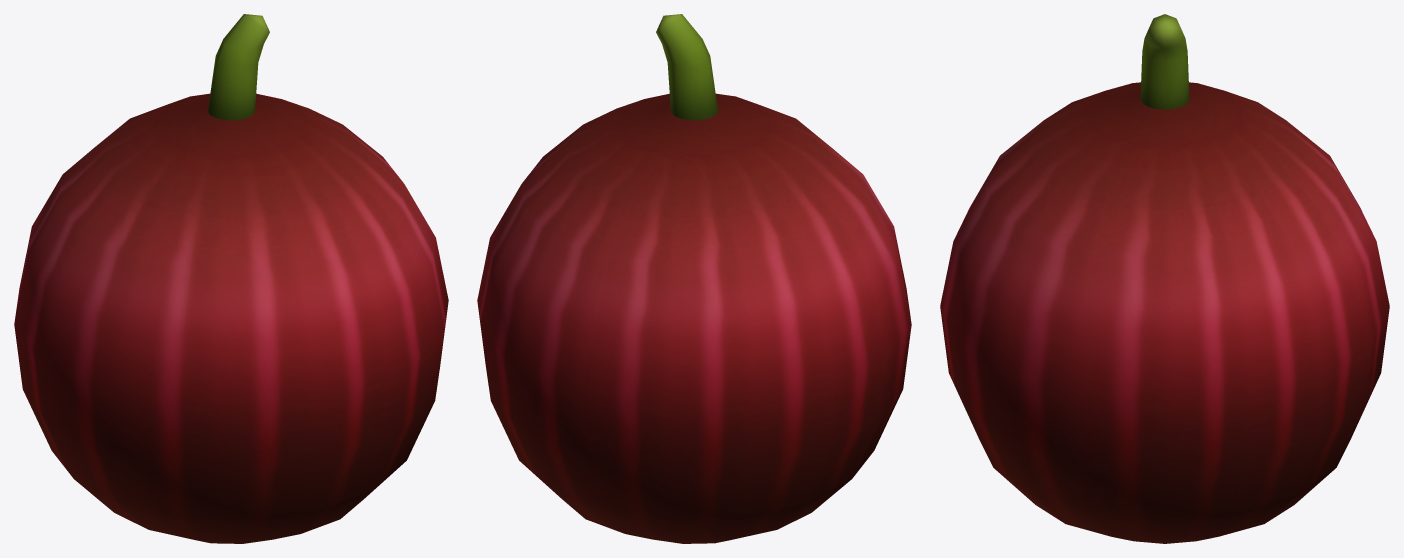
File: Gooseberry_Red.fbx
3 views of the same model, side by side, from view 1: azimuth 30°, elevation 25°; view 2: azimuth 150°, elevation 25°; view 3: azimuth 270°, elevation 25° (orthographic). The views are drawn at different scales.
Visible parts, largest first — view 1: Gooseberry_Red; view 2: Gooseberry_Red; view 3: Gooseberry_Red.
Boxes of the visible parts, box(x1,y1,x2,y2) form: Gooseberry_Red: box(14, 14, 448, 543); Gooseberry_Red: box(477, 14, 911, 543); Gooseberry_Red: box(940, 14, 1389, 543).
Bounding box in the file's own units: 13.85 × 17.61 × 13.85.
